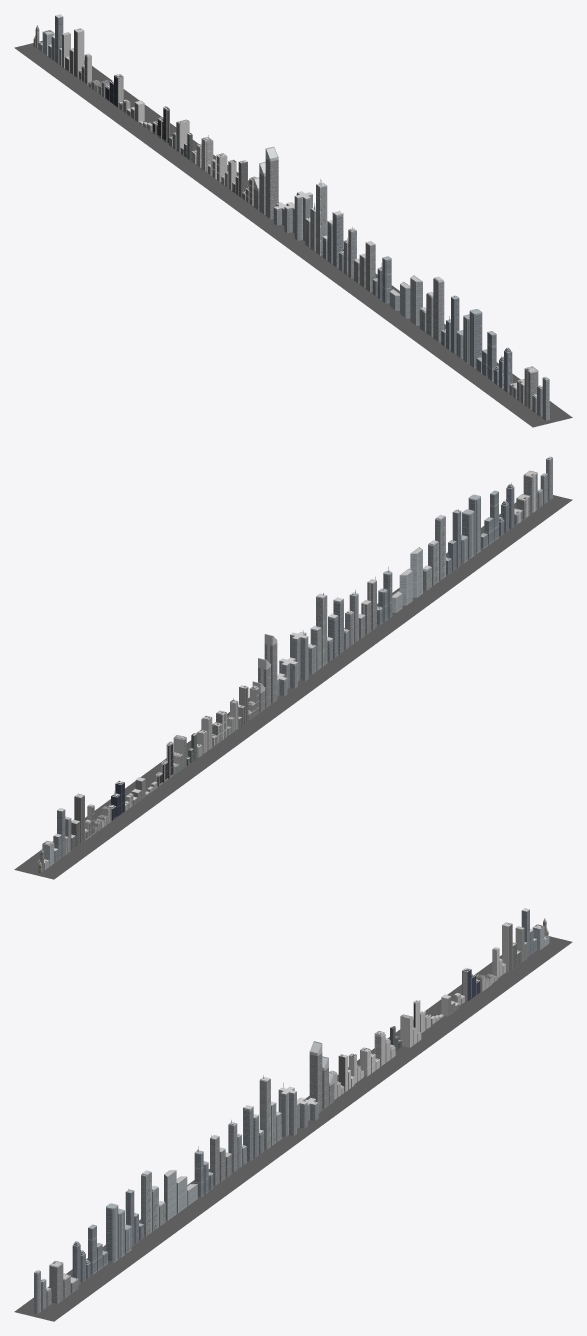
Rendered from room_05_pack_lineup_day.fbx.
3 views of the same model, one above another, from view 1: azimuth 30°, elevation 25°; view 2: azimuth 150°, elevation 25°; view 3: azimuth 330°, elevation 25° (orthographic).
Visible parts, largest first — view 1: ground, skyscraper_3, skyscraper_9, skyscraper_36, skyscraper_30, skyscraper_6, skyscraper_12, skyscraper_27; view 2: ground, skyscraper_6, skyscraper_9, skyscraper_3, skyscraper_27, skyscraper_30; view 3: ground, skyscraper_6, skyscraper_3, skyscraper_9, skyscraper_36, skyscraper_30, skyscraper_27, skyscraper_45, skyscraper_12.
Part boxes in pixels (x1,y1,x2,y2): ground: (14,41,572,427); skyscraper_3: (265,146,278,219); skyscraper_9: (316,182,327,255); skyscraper_36: (469,309,482,368); skyscraper_30: (433,276,444,342); skyscraper_6: (294,191,312,240); skyscraper_12: (332,210,343,267); skyscraper_27: (410,275,422,325); ground: (14,495,572,879); skyscraper_6: (290,631,308,681); skyscraper_9: (316,593,327,666); skyscraper_3: (264,634,277,703); skyscraper_27: (410,547,422,597); skyscraper_30: (435,514,445,580); ground: (14,936,572,1321); skyscraper_6: (278,1086,296,1137); skyscraper_3: (309,1041,322,1112); skyscraper_9: (259,1077,270,1149); skyscraper_36: (106,1203,118,1262); skyscraper_30: (141,1170,151,1236); skyscraper_27: (164,1170,176,1220); skyscraper_45: (49,1260,63,1303); skyscraper_12: (243,1105,253,1161).
Bounding box in the file's own units: 31578 × 57335 × 707842.
